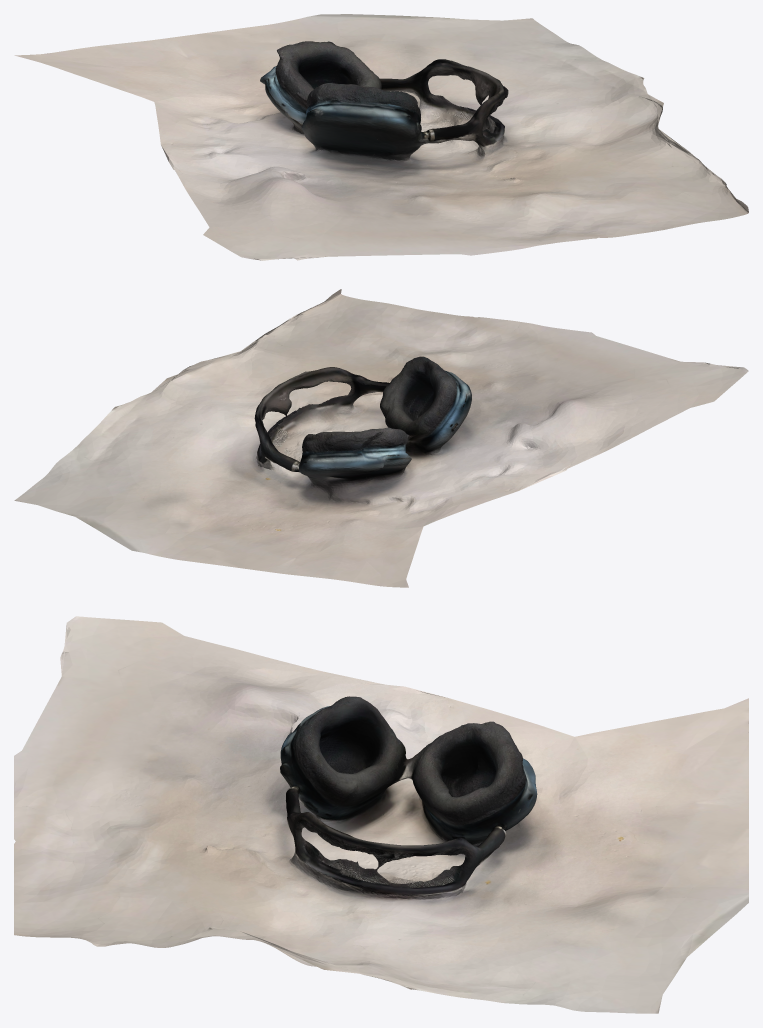
Rendered from Over-ear Headphones Black 3.glb.
3 renders of one model, top to bottom at view 1: azimuth 30°, elevation 25°; view 2: azimuth 150°, elevation 25°; view 3: azimuth 270°, elevation 25°, orthographic. The views are drawn at different scales.
Bounding box in the file's own units: 2.02 × 0.4135 × 2.09.
Materials: 1 (1 with a texture image).
